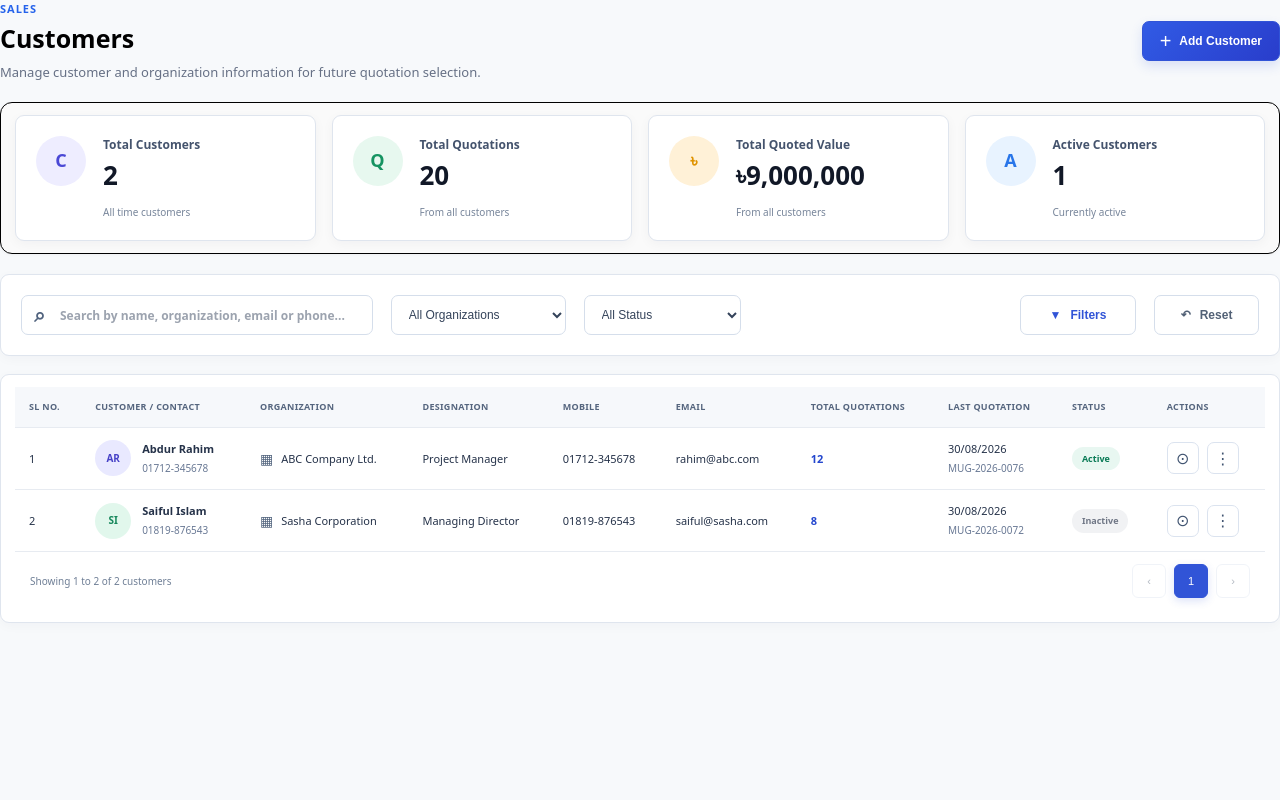
Test: renders the customer dashboard and filters by organization
Check: the text "Total Customers" is shown, box [103, 136, 200, 154]
Check: the text "৳9,000,000" is shown, box [736, 162, 865, 188]
Select "Sasha Corporation" in the dropdown named "Filter by organization". click: (478, 315)
box: [391, 295, 566, 335]
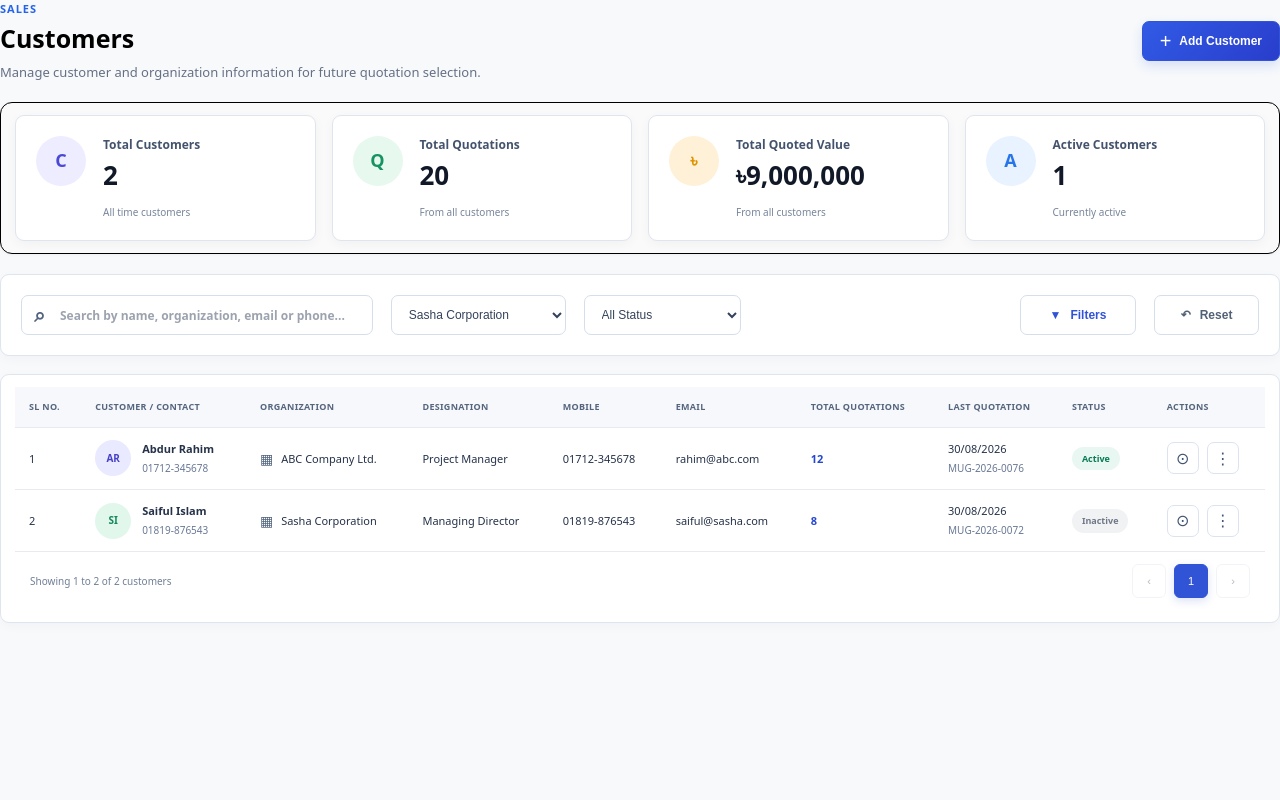
Click the button "▼ Filters". click: (1078, 315)
box: [1020, 295, 1136, 335]
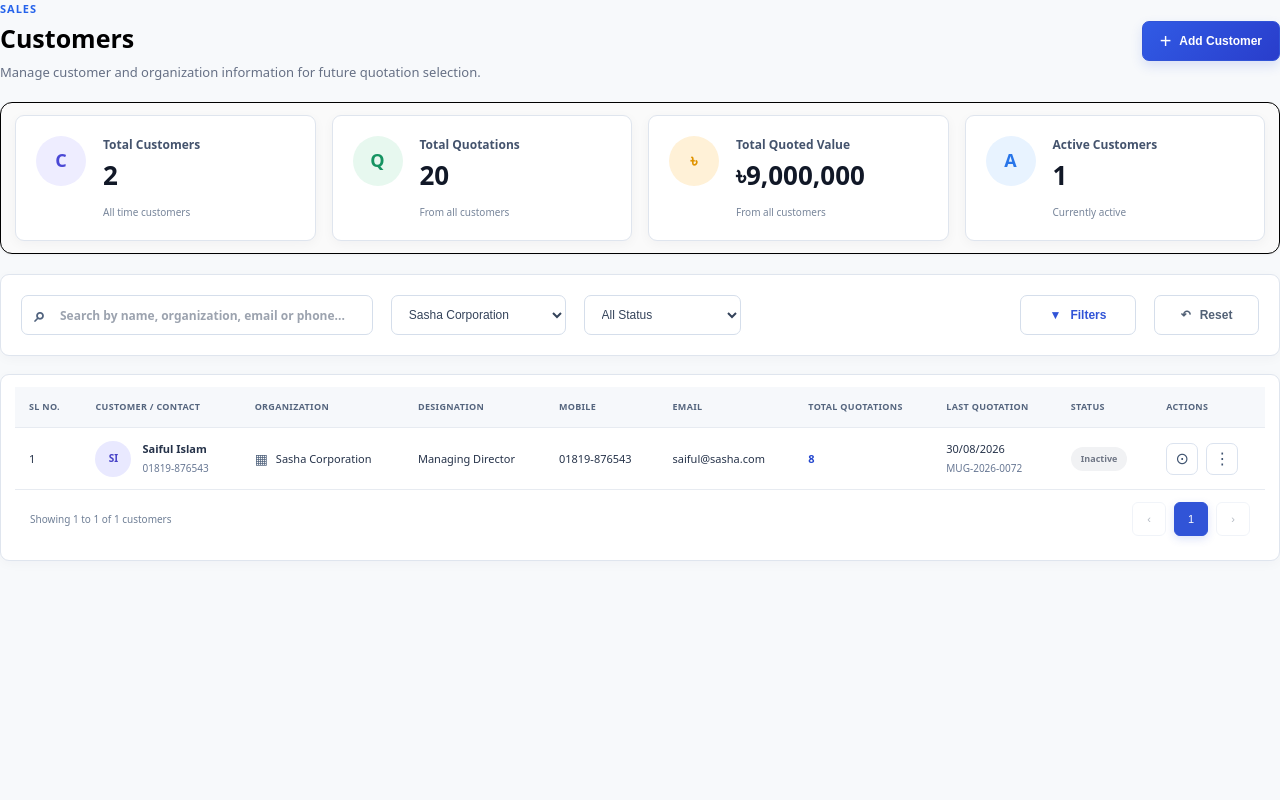
Check: the text "Saiful Islam" is shown, box [142, 440, 209, 457]
Check: the text "Abdur Rahim" is gone
Click the button named "View Saiful Islam". click: (1182, 459)
box: [1166, 443, 1198, 475]
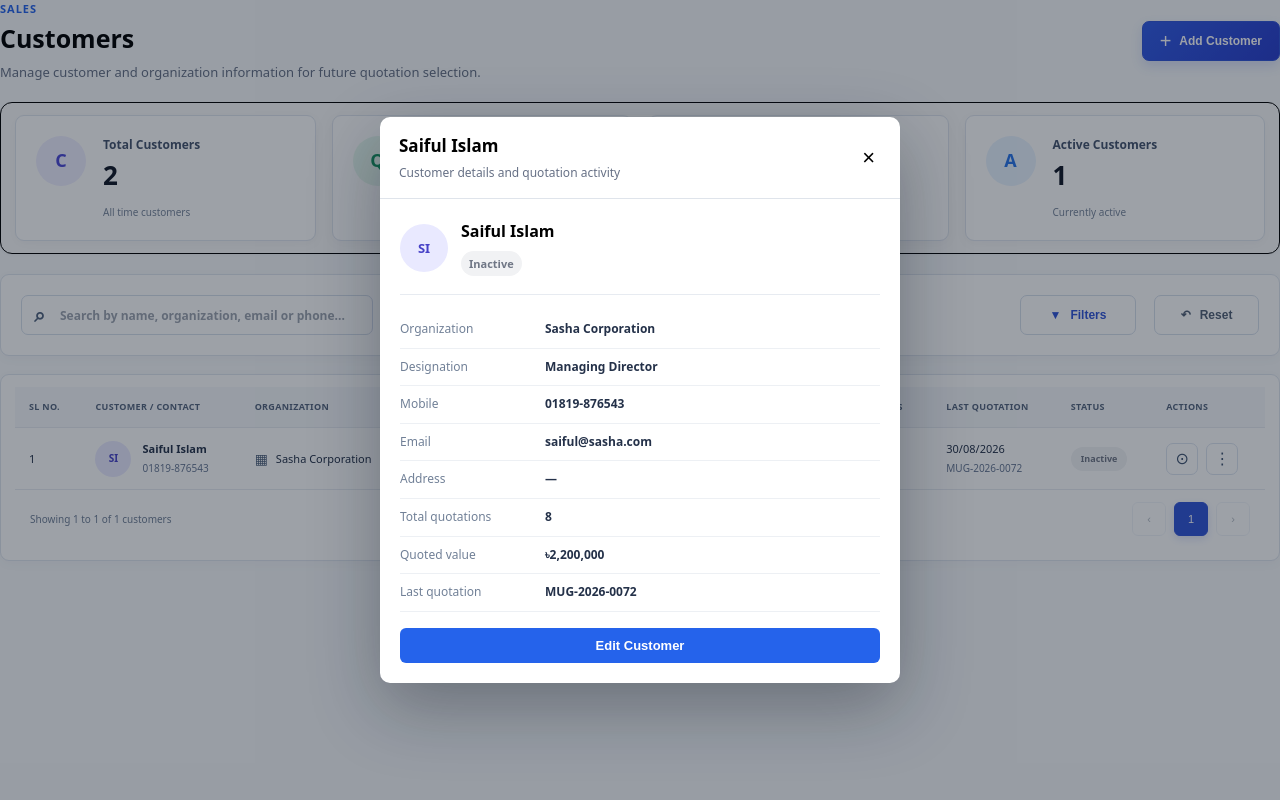
Check: the dialog "Saiful Islam" is shown, box [380, 117, 900, 683]
Check: the text "MUG-2026-0072" is shown, box [545, 583, 637, 600]
